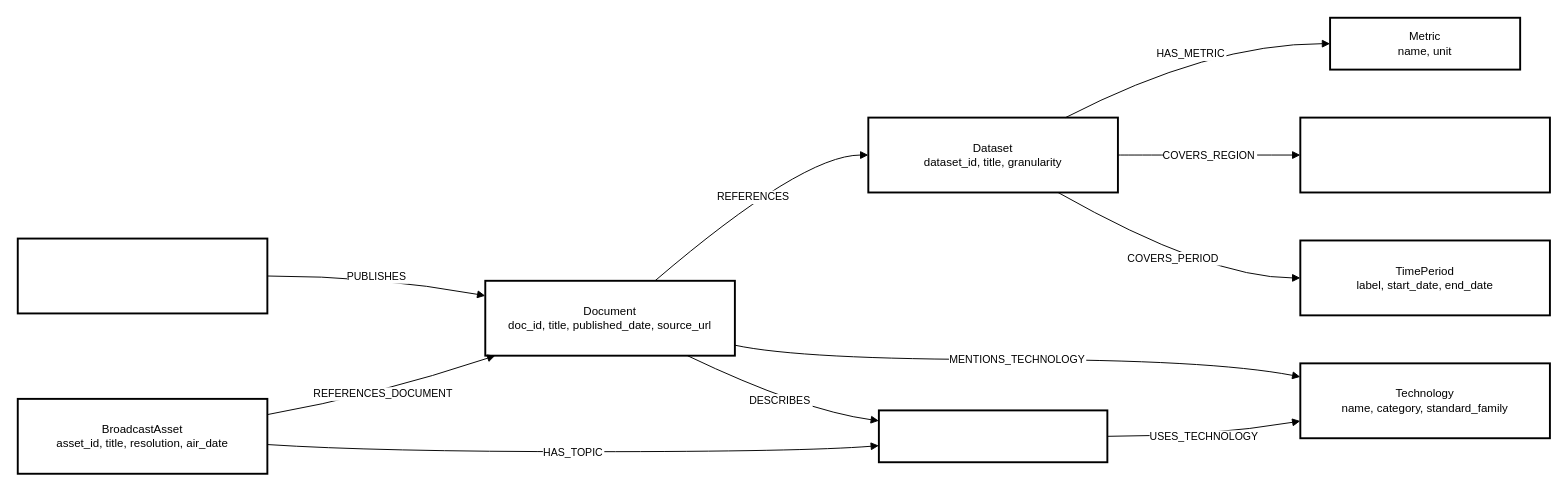
The diagram is 1567 pixels wide and 491 high, and some of its shapes have lost their labels. Each missing label, with the centre of its shape:
Organization name, type, website: the point at 142,275
Region name, iso_code, lat, lon: the point at 1424,154
Service name, category: the point at 992,436
